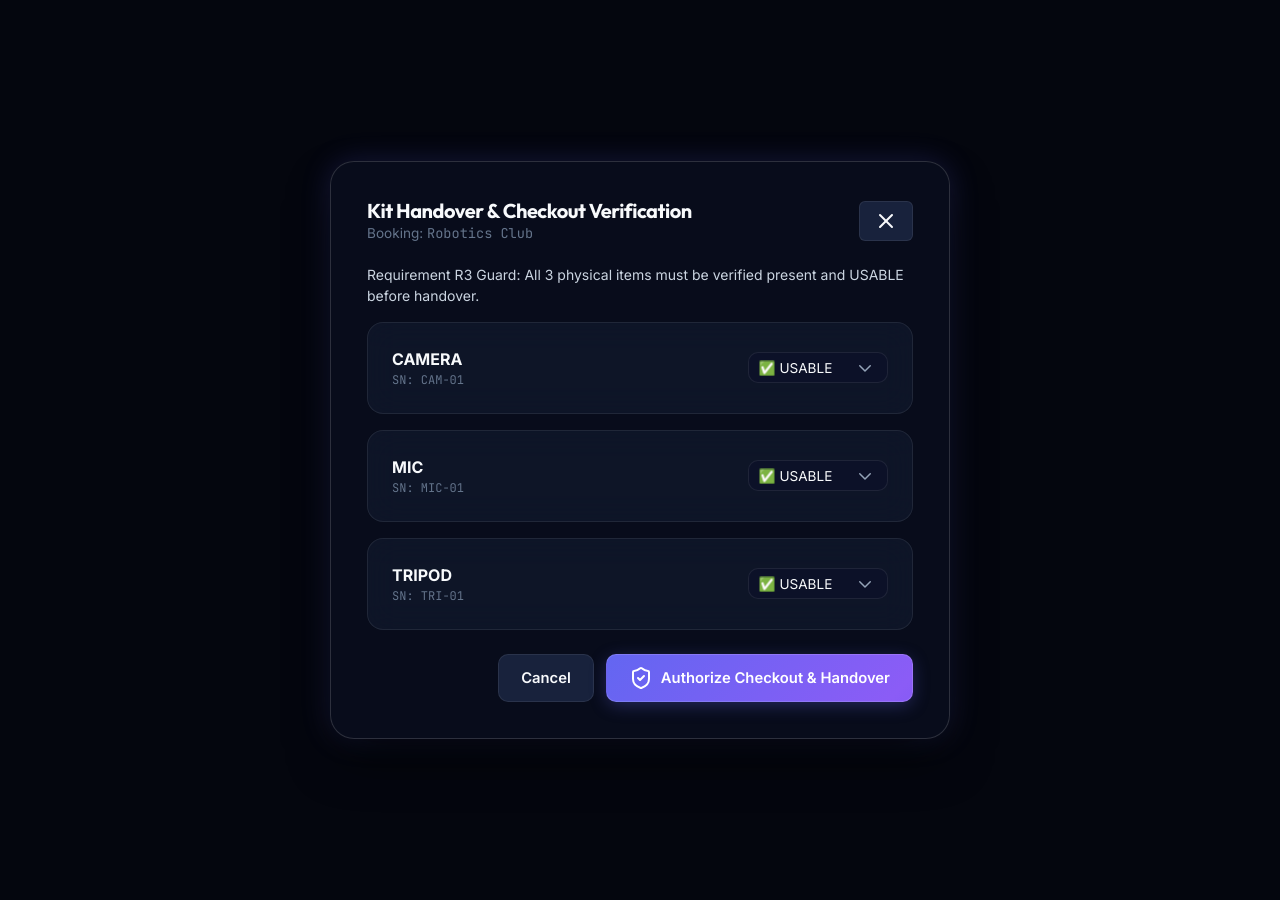
Test: Milestone 5: Frontend UI & Interactive Workflows › CheckoutModal Guards › disables checkout authorization if any item is marked DAMAGED or MISSING
Check: the button "Authorize Checkout & Handover" is enabled, box x1=606 y1=654 x2=913 y2=702
// Change first item (Camera) to DAMAGED
Select "⚠️ DAMAGED" in the dropdown in the row of "CAM-01" at [818, 368], box x1=748 y1=352 x2=888 y2=383
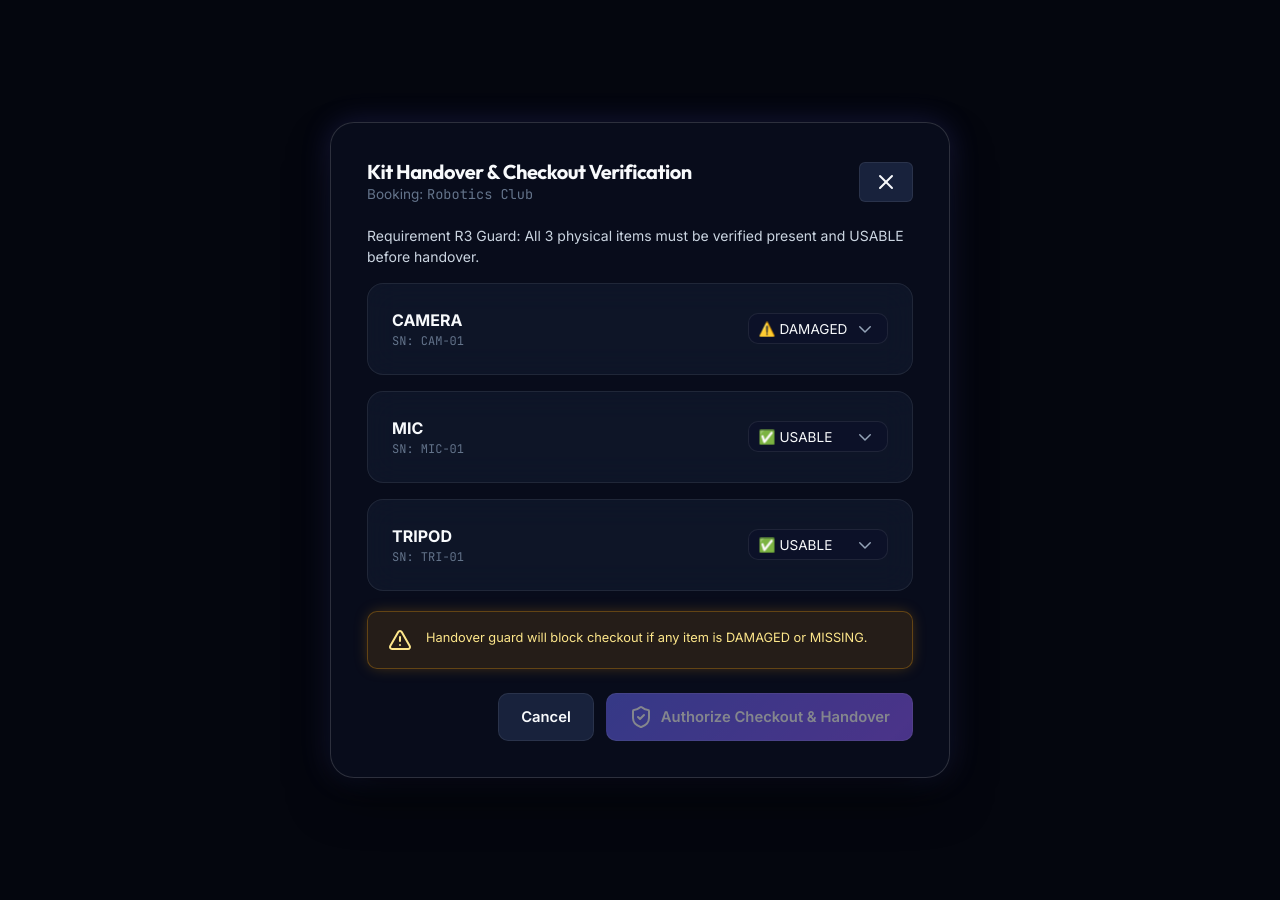
Check: the button "Authorize Checkout & Handover" is disabled, box x1=606 y1=693 x2=913 y2=741
Check: the text "Handover guard will block checkout if any item is DAMAGED or MISSING" is shown, box x1=426 y1=630 x2=867 y2=645
